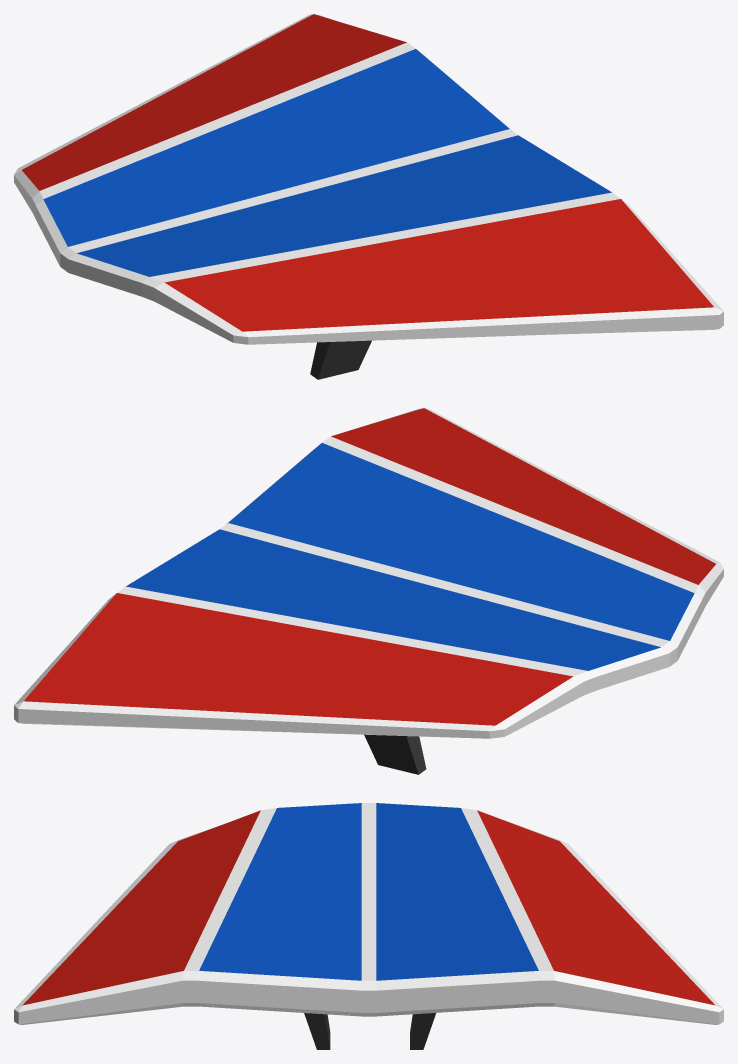
File: parapente.glb
3 renders of one model, top to bottom at view 1: azimuth 30°, elevation 25°; view 2: azimuth 150°, elevation 25°; view 3: azimuth 270°, elevation 25°, orthographic. The views are drawn at different scales.
Visible parts, largest first — view 1: Cube; view 2: Cube; view 3: Cube.
Part boxes in pixels (x1=…): Cube: x1=14, y1=14, x2=723, y2=379; Cube: x1=14, y1=408, x2=723, y2=774; Cube: x1=14, y1=803, x2=723, y2=1049.
Bounding box in the file's own units: 2.32 × 0.8835 × 3.61.
Materials: 1 (1 with a texture image).
